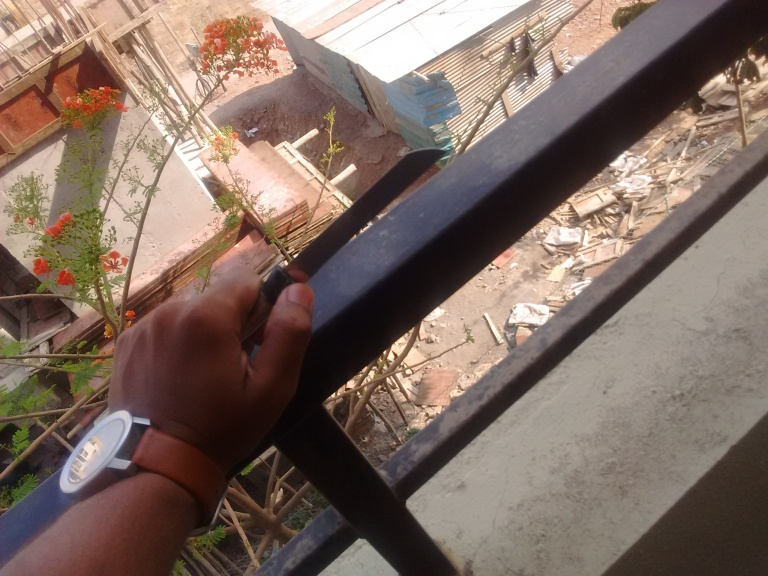knife: (223, 145, 451, 329)
